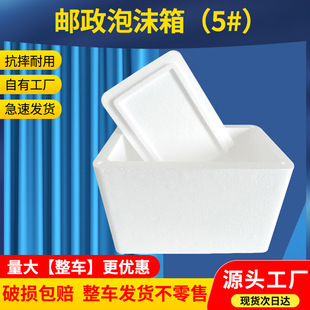Boxes: (94, 51, 293, 254)
